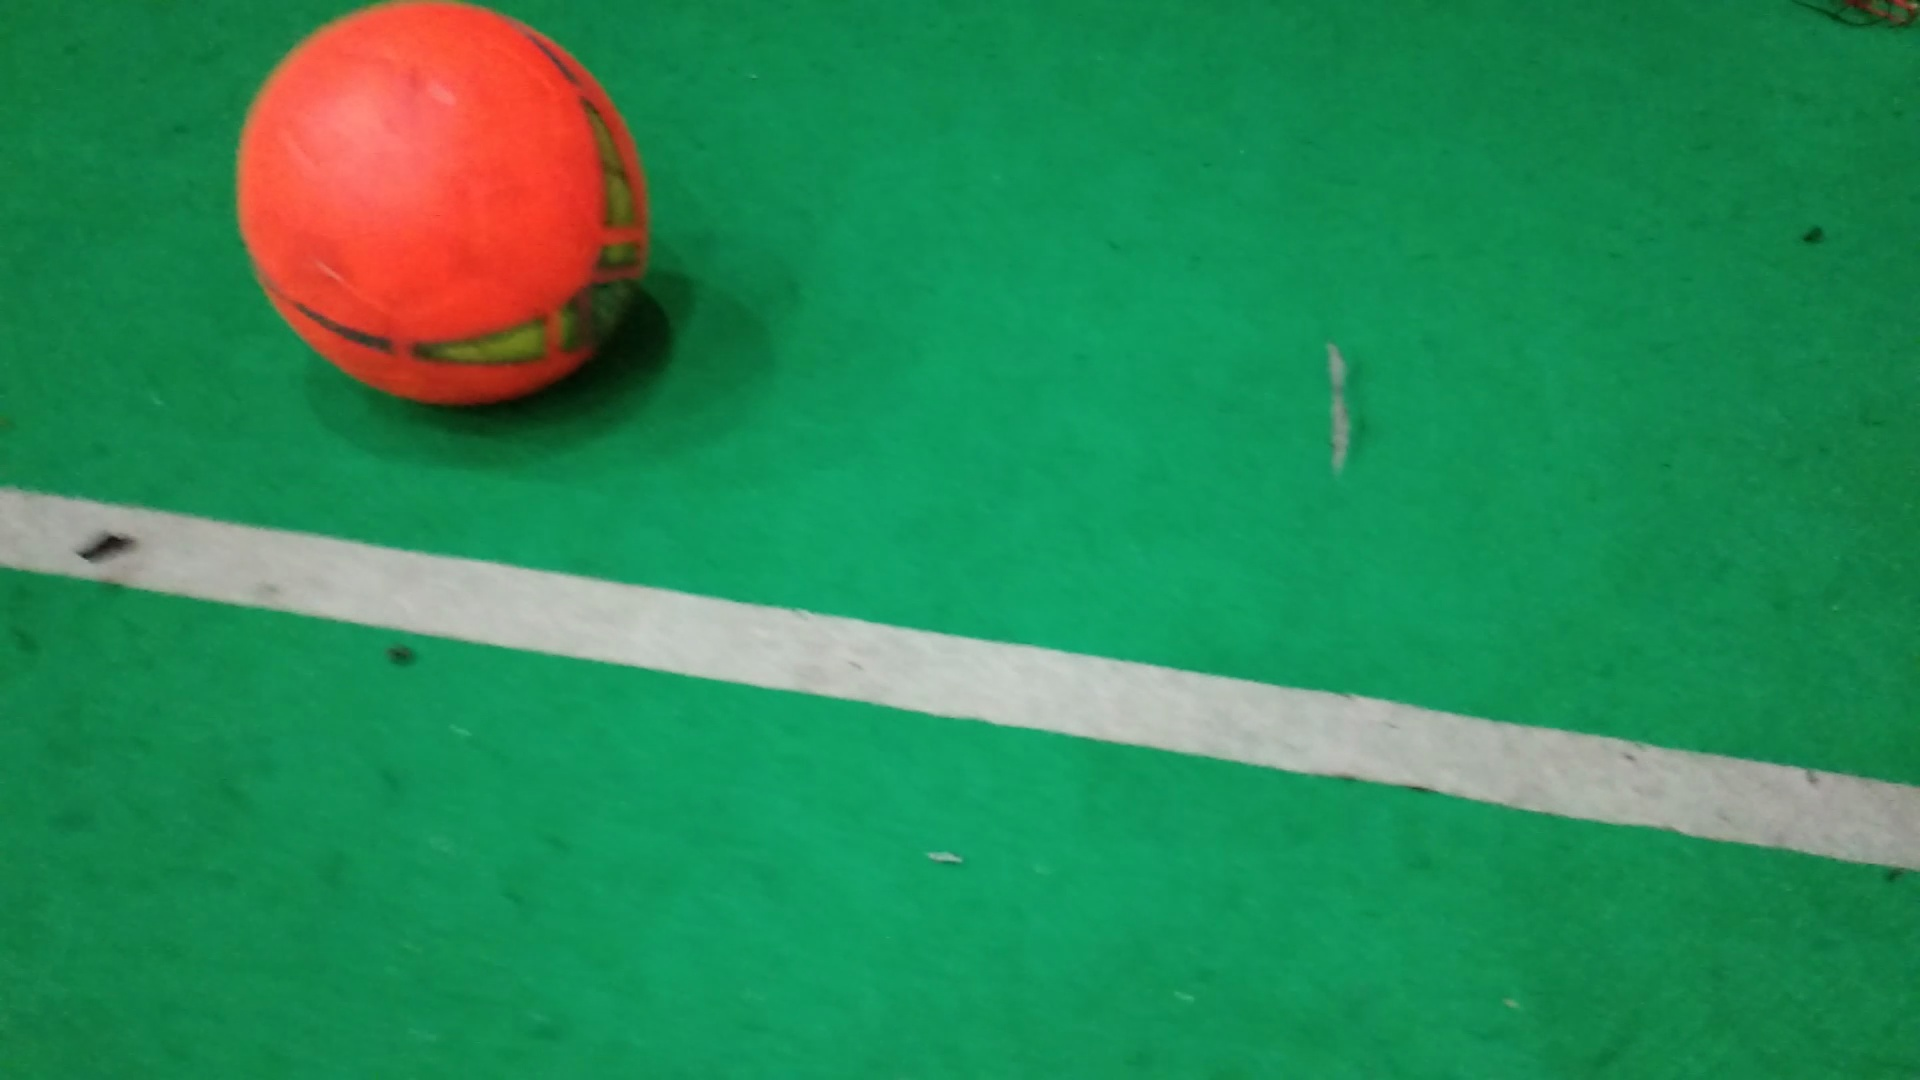bola: (225, 1, 651, 438)
